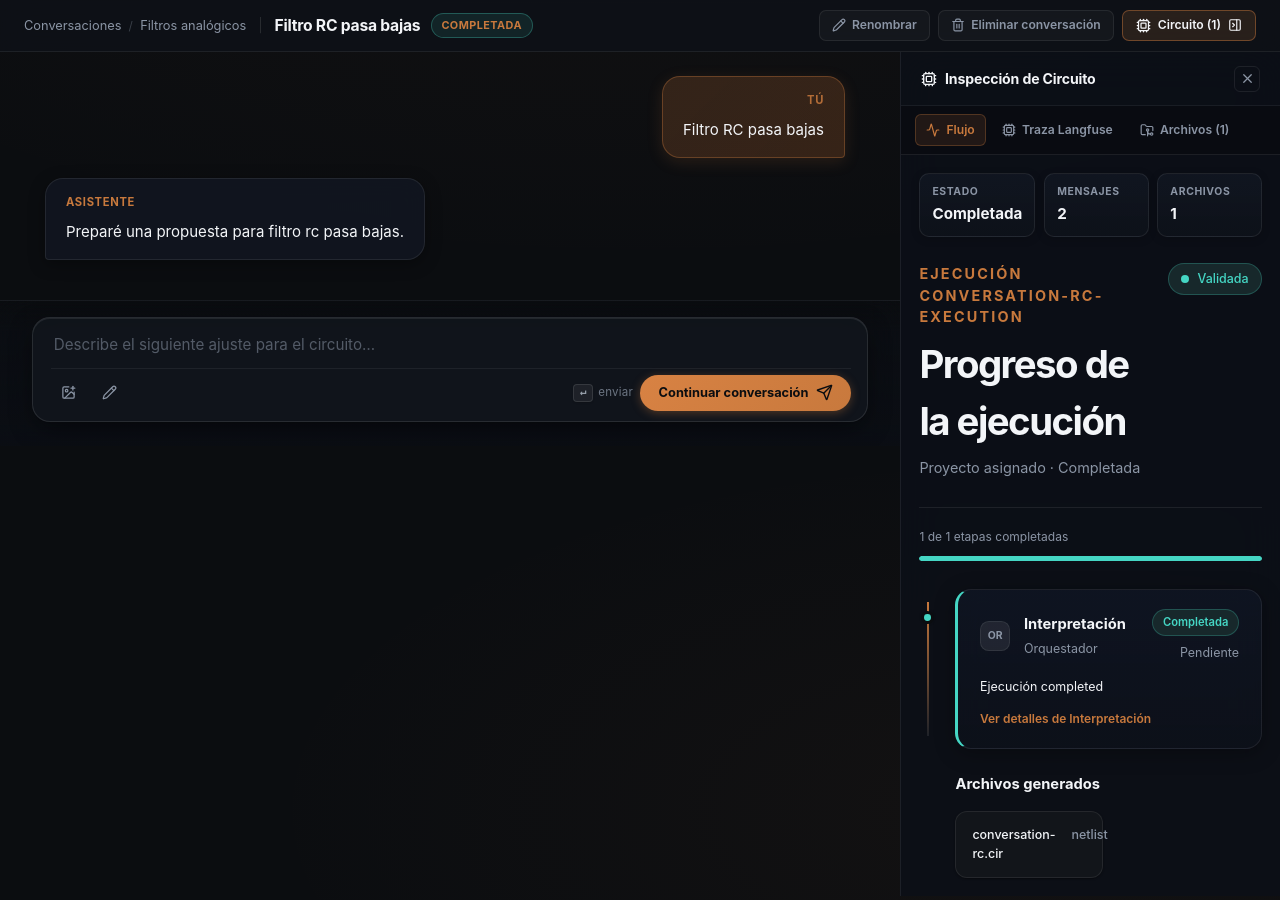
ConversationScreen › retains continuation text when submission fails
Type "Conserva este texto" into the text box named "Nueva indicación".
click(451, 345); type("Conserva este texto")  # box [51, 330, 851, 360]
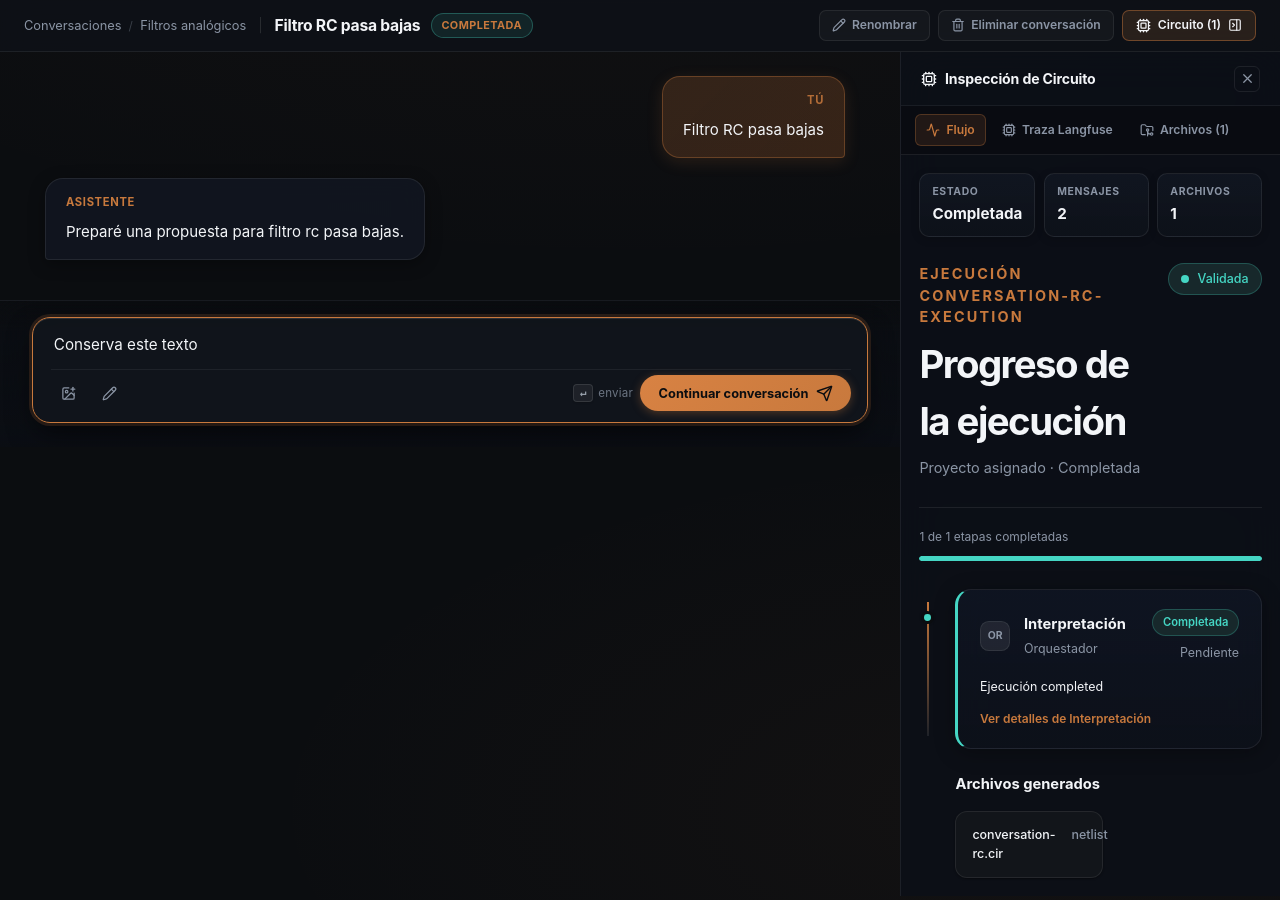
Click the button "Continuar conversación".
click(746, 393)  # box [640, 375, 851, 411]
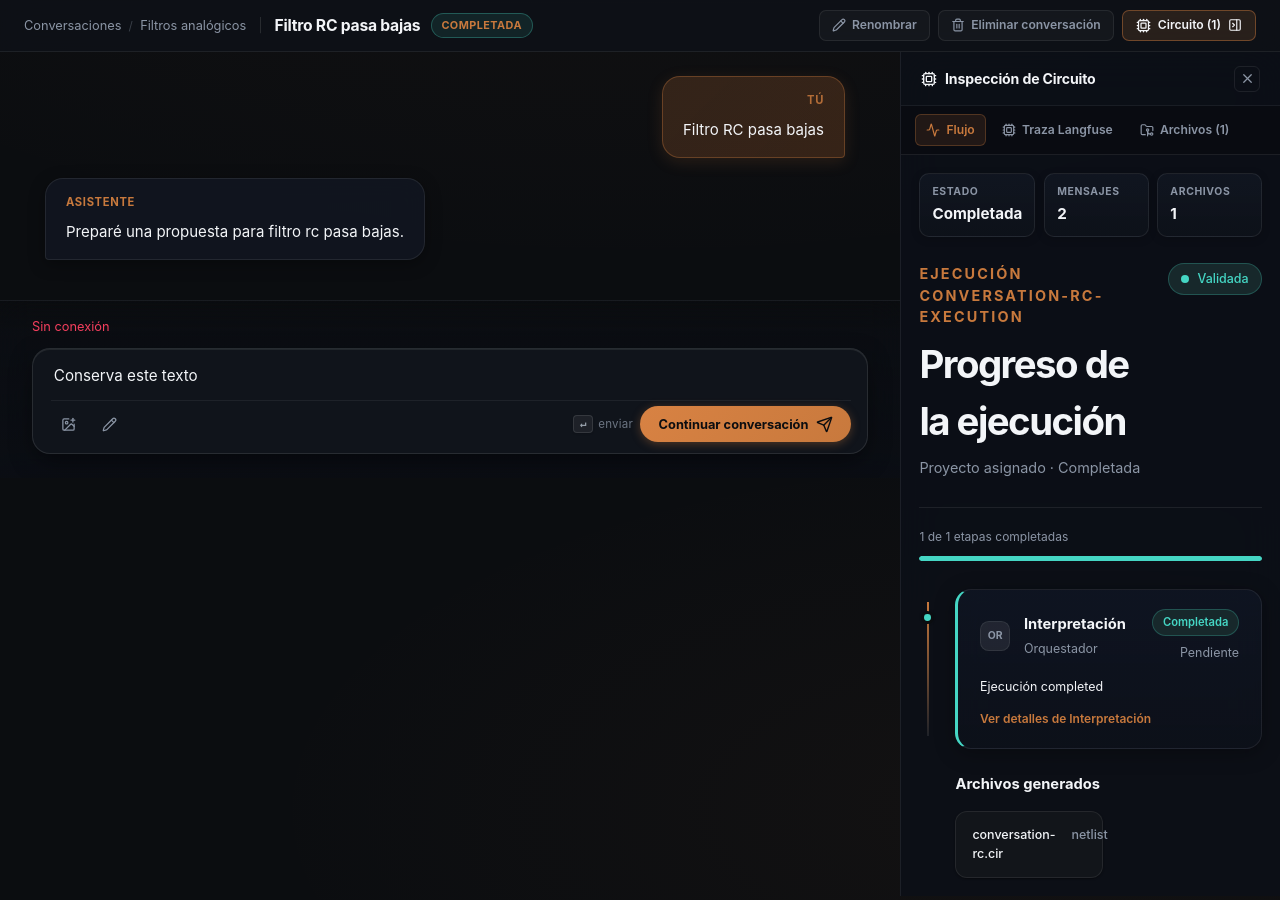
Check: the message reads "Sin conexión", box [32, 319, 110, 334]
